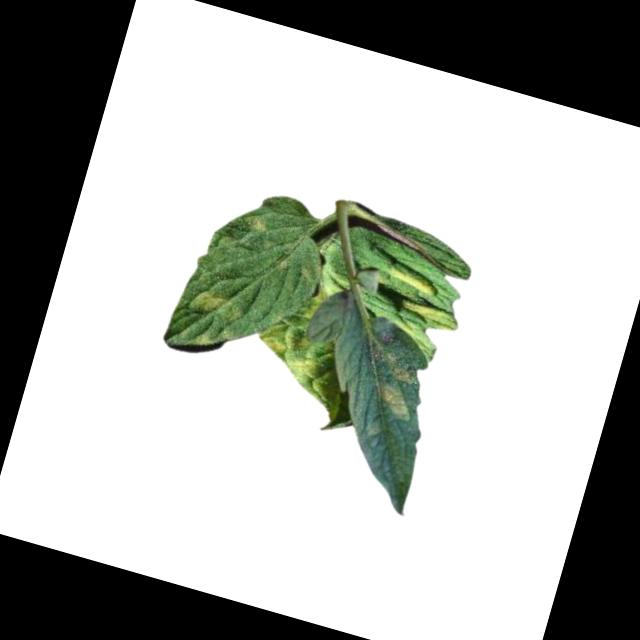Leaf_Mold: (244, 274, 354, 391), (395, 293, 463, 339), (186, 284, 250, 327), (383, 259, 443, 299), (372, 378, 417, 422), (241, 212, 272, 238)
